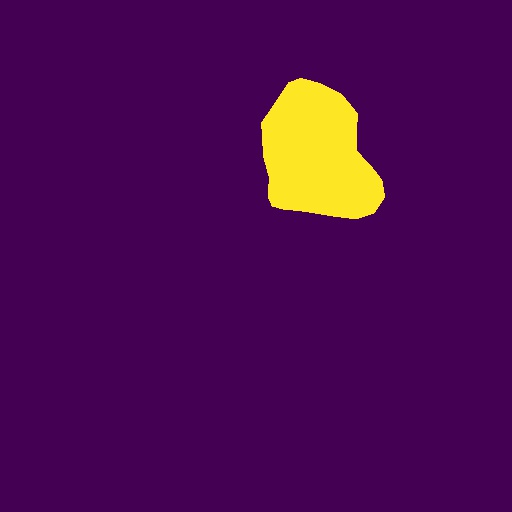Gliomia_tumour: (261, 78, 385, 219)
